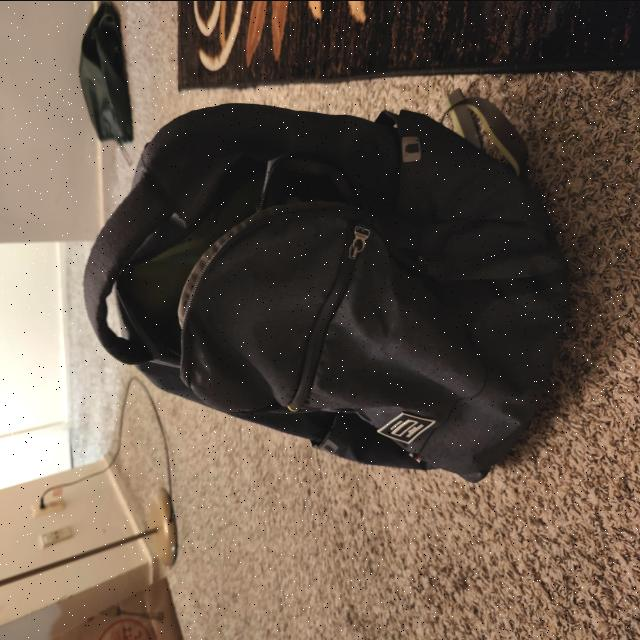bag: (114, 140, 522, 458)
